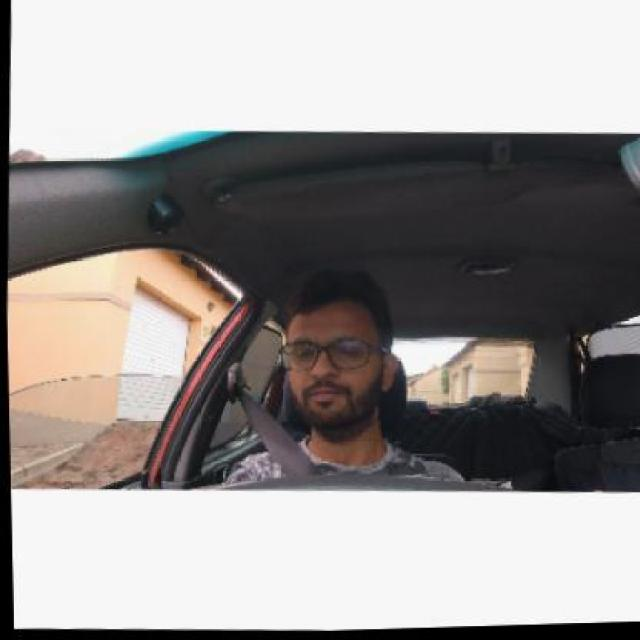drowsy: (273, 260, 407, 442)
